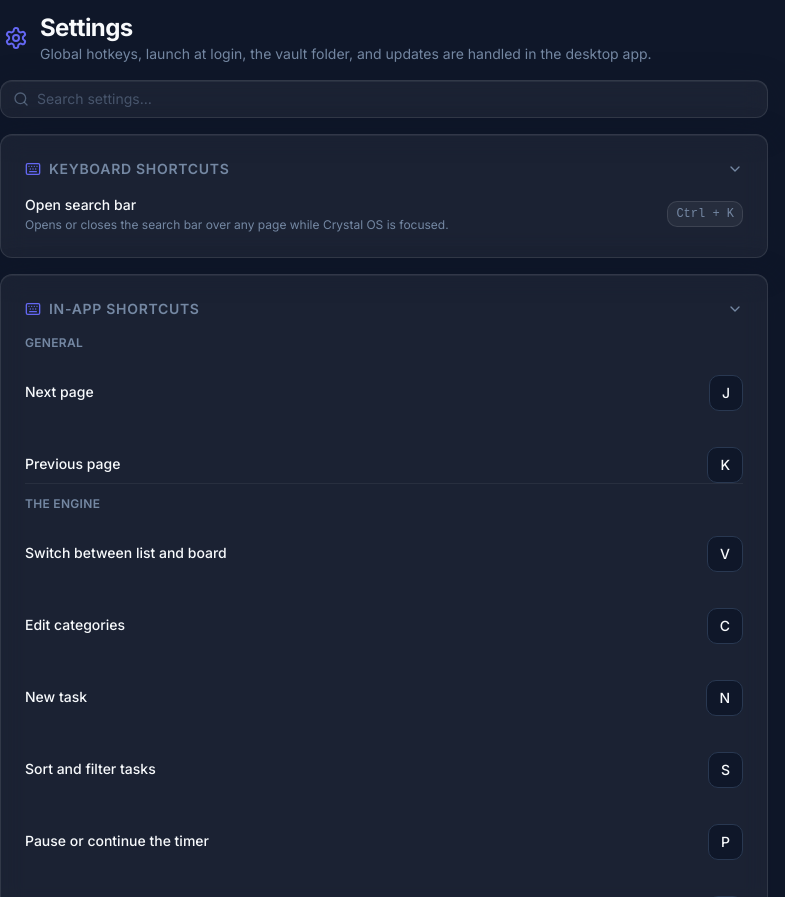
Test: Settings search › says so when nothing matches
This screenshot has width=785, height=897.
Type "zzzz-nothing" into the search field at (396, 99), box [37,89,755,109]
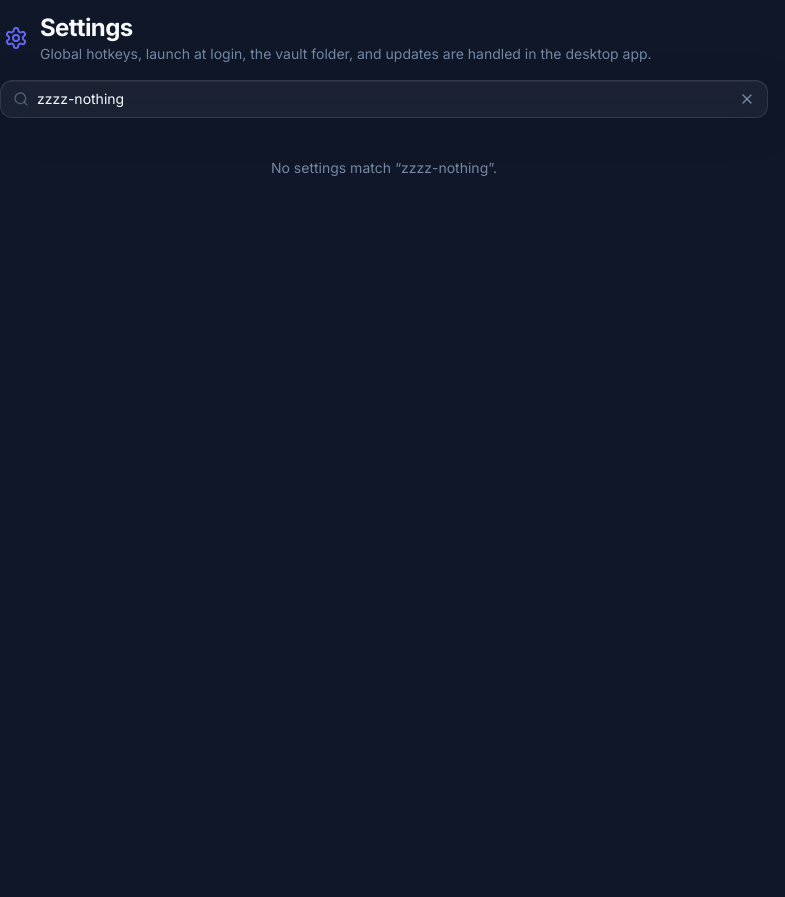
Result: the text "No settings match “zzzz-nothing”." is shown at [271,159,497,176]
